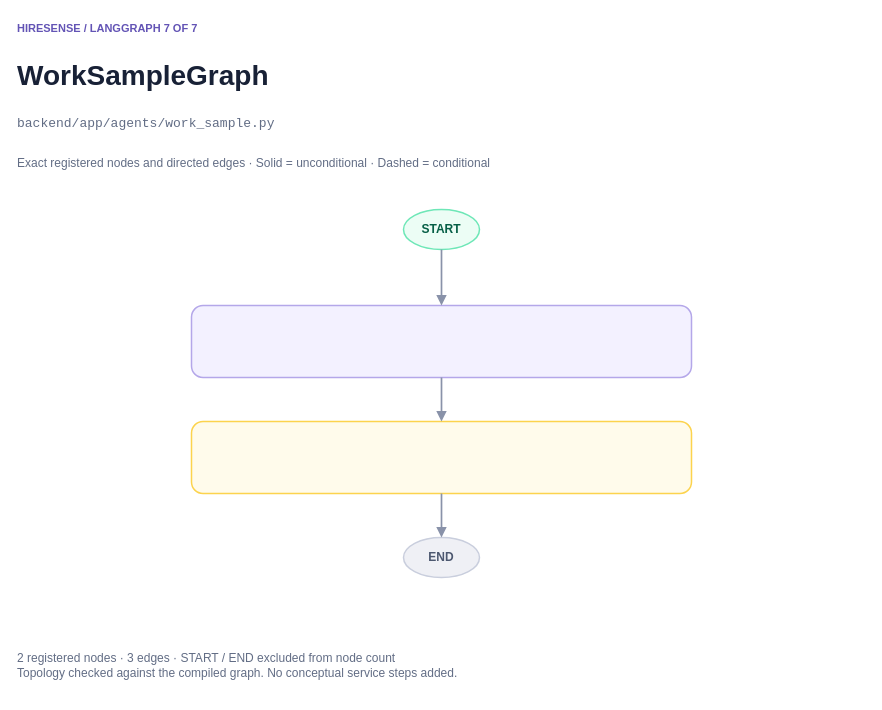
The diagram is 882 pixels wide and 710 high, and some of its shapes have lost their labels. The centre of each missing label's shape, as x and y in pixels:
draft_short_task: the point at 441,341
validate_time_and_shape: the point at 441,457
